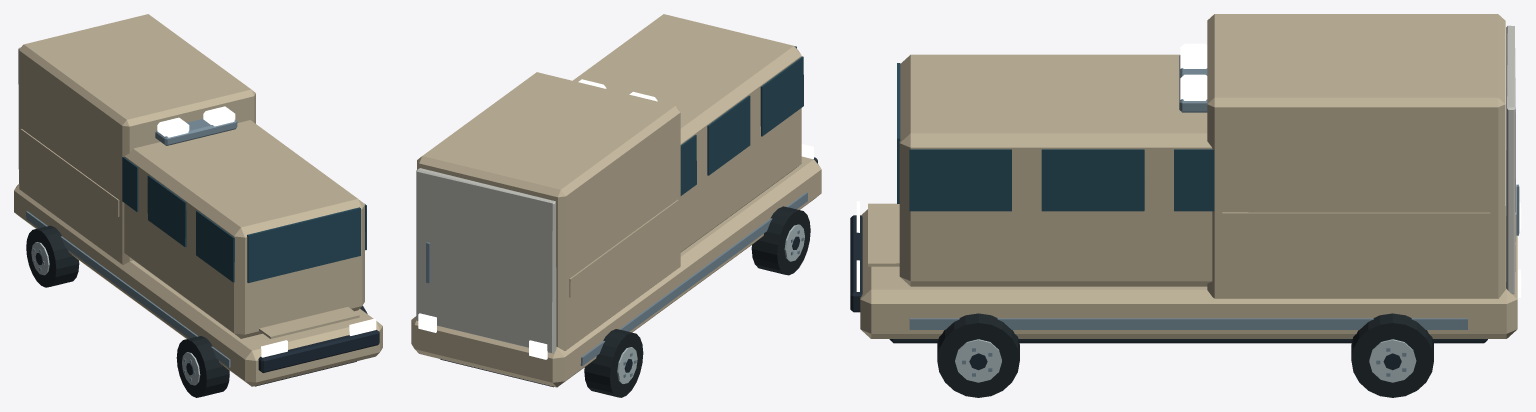
The model's file is road-ambulance.lod1.glb.
The picture shows the model from 3 angles, left to right: view 1: azimuth 30°, elevation 25°; view 2: azimuth 150°, elevation 25°; view 3: azimuth 270°, elevation 25°; orthographic projection. The views are drawn at different scales.
Parts seen in each view (by area): view 1: road-ambulance__body, road-ambulance__wheel_steer_0_l, road-ambulance__wheel_steer_1_l; view 2: road-ambulance__body, road-ambulance__cargo_door, road-ambulance__wheel_steer_0_l, road-ambulance__wheel_steer_1_l; view 3: road-ambulance__body, road-ambulance__wheel_steer_1_r, road-ambulance__wheel_steer_0_r, road-ambulance__cargo_door.
Boxes of the visible parts, x1,y1,x2,y2 form: road-ambulance__body: (14, 14, 382, 386); road-ambulance__wheel_steer_0_l: (176, 336, 229, 397); road-ambulance__wheel_steer_1_l: (26, 225, 79, 287); road-ambulance__body: (411, 14, 821, 387); road-ambulance__cargo_door: (416, 168, 556, 353); road-ambulance__wheel_steer_0_l: (751, 206, 810, 275); road-ambulance__wheel_steer_1_l: (584, 329, 643, 397); road-ambulance__body: (850, 14, 1521, 343); road-ambulance__wheel_steer_1_r: (1351, 313, 1433, 397); road-ambulance__wheel_steer_0_r: (937, 313, 1019, 397); road-ambulance__cargo_door: (1506, 25, 1519, 294).
Size of the model in its own units: 2.25 by 2.59 by 5.51.
